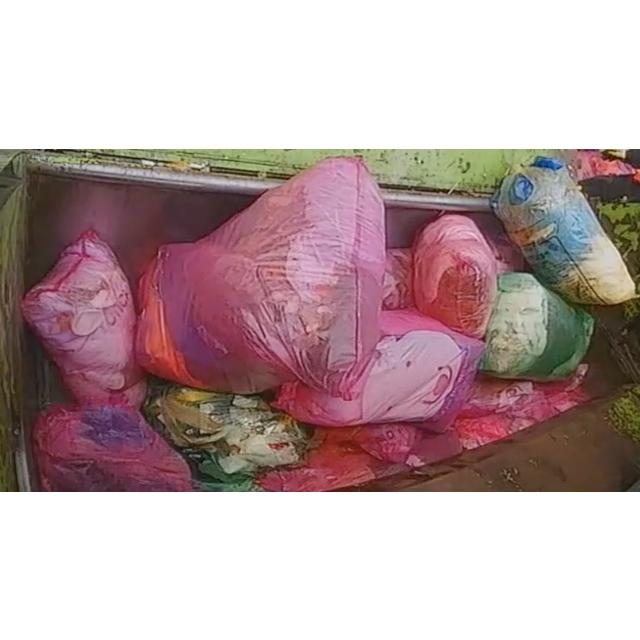general_trashbag: (492, 157, 635, 304), (145, 379, 311, 490), (480, 272, 594, 380)
other_trashbag: (135, 158, 482, 430), (136, 157, 386, 399), (21, 229, 144, 403), (34, 403, 192, 492), (412, 214, 498, 337), (352, 423, 416, 462)
